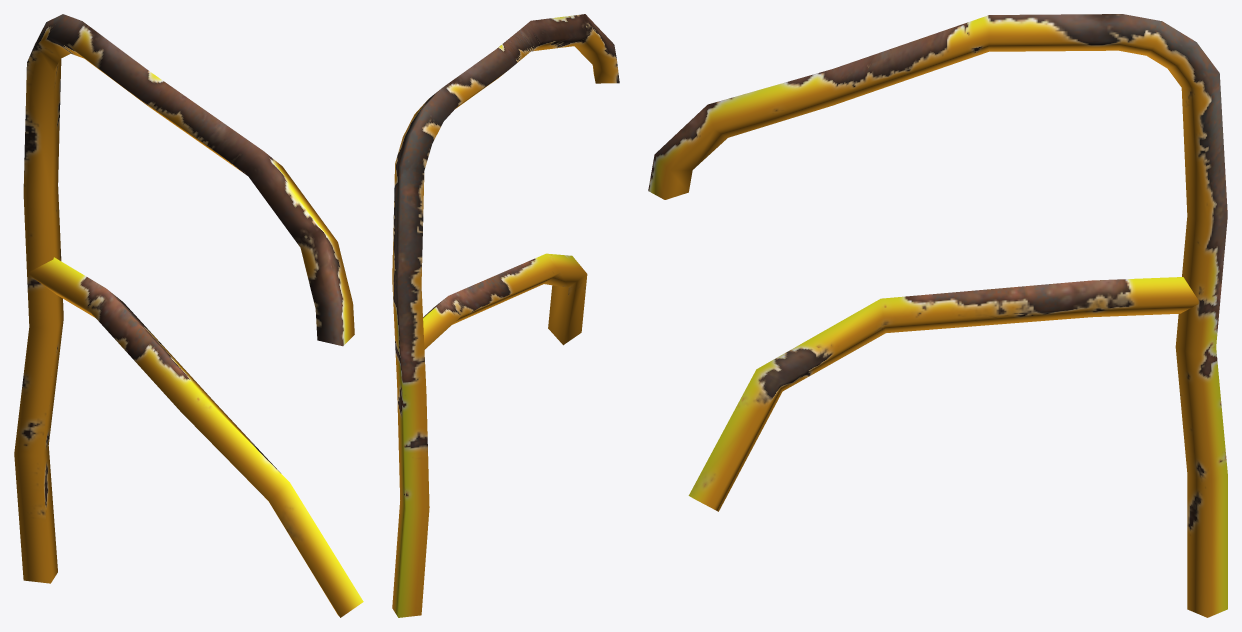
The model's file is safetyRail_single01_B.fbx.
The picture shows the model from 3 angles, left to right: view 1: azimuth 30°, elevation 25°; view 2: azimuth 150°, elevation 25°; view 3: azimuth 270°, elevation 25°; orthographic projection. The views are drawn at different scales.
Parts seen in each view (by area): view 1: safetyRail_single01_B; view 2: safetyRail_single01_B; view 3: safetyRail_single01_B.
Boxes of the visible parts, <box> form: safetyRail_single01_B: <box>14,14,363,617</box>; safetyRail_single01_B: <box>392,14,619,617</box>; safetyRail_single01_B: <box>648,14,1227,617</box>.
Bounding box in the file's own units: 21.03 × 113 × 100.
